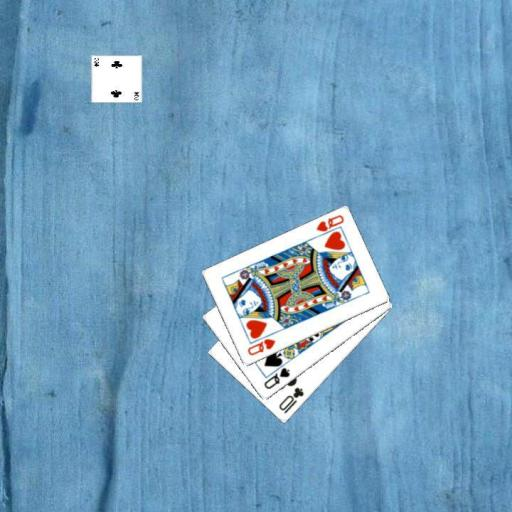10C: (275, 384, 306, 415)
QH: (312, 212, 346, 240), (244, 336, 277, 358)
QS: (261, 365, 292, 391)
